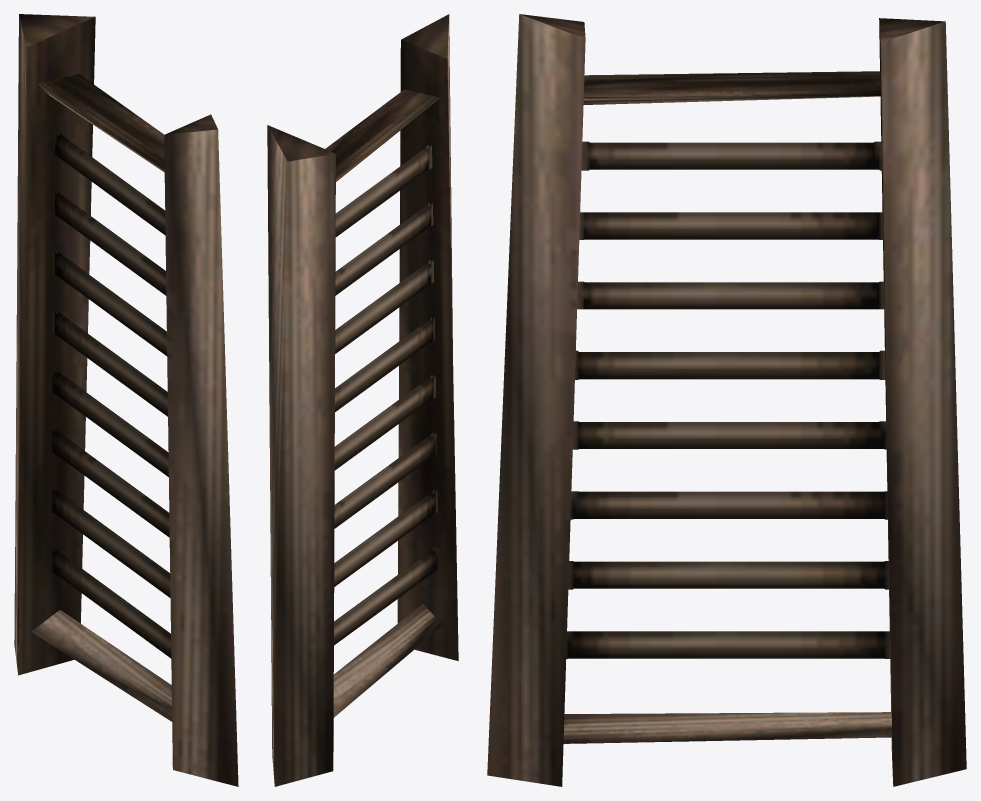
Rendered from stst128.dae.
3 renders of one model, left to right at view 1: azimuth 30°, elevation 25°; view 2: azimuth 150°, elevation 25°; view 3: azimuth 270°, elevation 25°, orthographic. The views are drawn at different scales.
Visible parts, largest first — view 1: ladder; view 2: ladder; view 3: ladder.
Part boxes in pixels (left/top/right/bottom): ladder: left=14, top=14, right=238, bottom=786; ladder: left=267, top=14, right=458, bottom=786; ladder: left=487, top=14, right=966, bottom=786.
Bounding box in the file's own units: 0.0916 × 0.4331 × 0.7598.
Materials: 1 (1 with a texture image).
